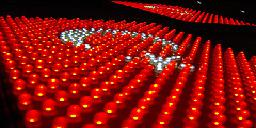LED: (8, 17, 256, 127)
